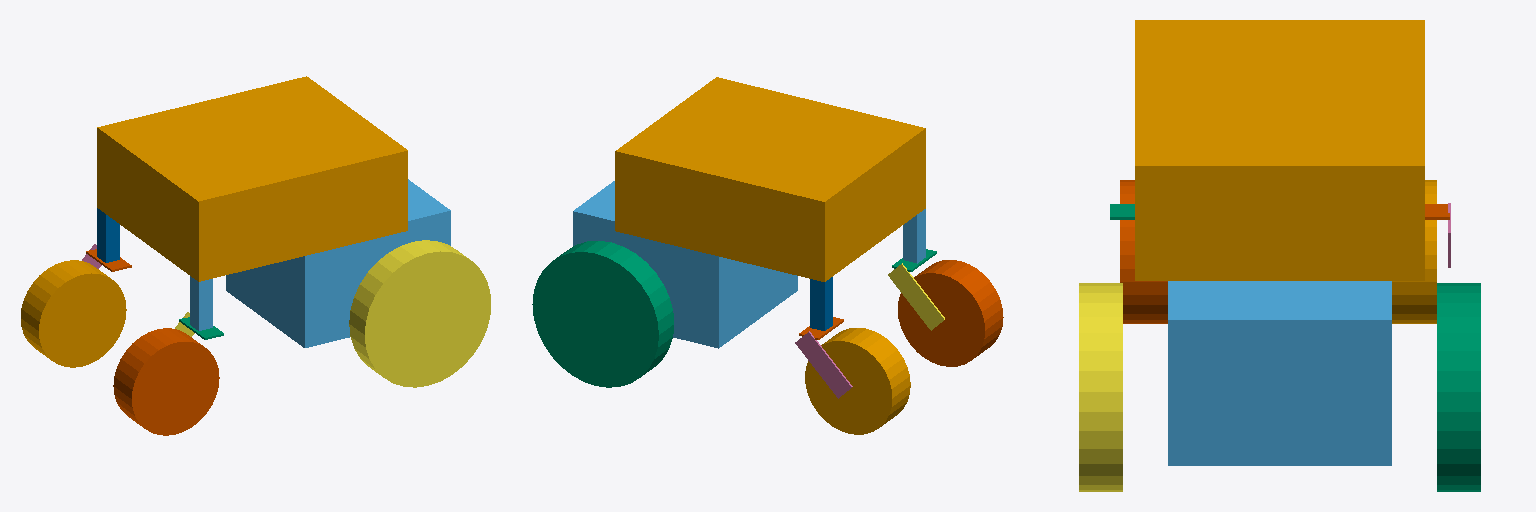
URDF robot description (mobot):
<?xml version="1.0" encoding="utf-8"?>
<!-- =================================================================================== -->
<!-- |    This document was autogenerated by xacro from mobot.xacro                    | -->
<!-- |    EDITING THIS FILE BY HAND IS NOT RECOMMENDED                                 | -->
<!-- =================================================================================== -->
<robot name="mobot" xmlns:xacros="http://www.ros.org/wiki/xacro">
  <!-- clearance from bottom of the box to ground -->
  <inertial>
    <mass value="1"/>
    <inertia ixx="0.01" ixy="0.0" ixz="0.0" iyy="0.01" iyz="0.0" izz="0.01"/>
  </inertial>
  <link name="base_link">
    <visual>
      <geometry>
        <box size="0.5461 0.4572 0.2"/>
      </geometry>
      <origin rpy="0 0 0" xyz="-0.27305 0 0.45"/>
    </visual>
    <collision>
      <geometry>
        <box size="0.5461 0.4572 0.2"/>
      </geometry>
      <origin rpy="0 0 0" xyz="-0.27305 0 0.45"/>
    </collision>
    <inertial>
      <!-- assign almost all mass to the main body box; m=100kg; treat I as approx m*r^2 -->
      <mass value="100"/>
      <inertia ixx="10" ixy="0" ixz="0" iyy="10" iyz="0" izz="10"/>
    </inertial>
  </link>
  <link name="batterybox">
    <visual>
      <geometry>
        <box size="0.381 0.3556 0.254"/>
      </geometry>
      <origin rpy="0 0 0" xyz="0 0 0"/>
    </visual>
    <collision>
      <geometry>
        <box size="0.381 0.3556 0.254"/>
      </geometry>
      <origin rpy="0 0 0" xyz="0 0 0"/>
    </collision>
  </link>
  <joint name="batterytobase" type="fixed">
    <parent link="base_link"/>
    <child link="batterybox"/>
    <origin rpy="0 0 0" xyz="-0.05 0 0.22"/>
  </joint>
  <link name="left_wheel">
    <visual>
      <geometry>
        <cylinder length="0.06985" radius="0.1651"/>
      </geometry>
    </visual>
    <collision>
      <geometry>
        <cylinder length="0.06985" radius="0.1651"/>
      </geometry>
    </collision>
    <inertial>
      <!-- assign inertial properties to drive wheels -->
      <mass value="1"/>
      <inertia ixx="0.1" ixy="0" ixz="0" iyy="0.1" iyz="0" izz="0.1"/>
    </inertial>
  </link>
  <joint name="left_wheel_joint" type="continuous">
    <axis xyz="0 0 1"/>
    <parent link="base_link"/>
    <child link="left_wheel"/>
    <origin rpy="0 1.57079632679 1.57079632679" xyz="0 0.282575 0.1651"/>
    <limit effort="100" velocity="15"/>
    <joint_properties damping="0.0" friction="0.0"/>
  </joint>
  <link name="right_wheel">
    <visual>
      <geometry>
        <cylinder length="0.06985" radius="0.1651"/>
      </geometry>
    </visual>
    <collision>
      <geometry>
        <cylinder length="0.06985" radius="0.1651"/>
      </geometry>
    </collision>
    <inertial>
      <!-- assign inertial properties to drive wheels -->
      <mass value="1"/>
      <inertia ixx="0.1" ixy="0" ixz="0" iyy="0.1" iyz="0" izz="0.1"/>
    </inertial>
  </link>
  <joint name="right_wheel_joint" type="continuous">
    <axis xyz="0 0 1"/>
    <parent link="base_link"/>
    <child link="right_wheel"/>
    <origin rpy="0 1.57079632679 1.57079632679" xyz="0 -0.282575 0.1651"/>
    <limit effort="100" velocity="15"/>
    <joint_properties damping="0.0" friction="0.0"/>
  </joint>
  <link name="castdrop_left">
    <visual>
      <geometry>
        <box size="0.0381 0.0381 0.125"/>
      </geometry>
      <origin rpy="0 0 0" xyz="0 0 0"/>
    </visual>
    <collision>
      <geometry>
        <box size="0.0381 0.0381 0.125"/>
      </geometry>
      <origin rpy="0 0 0" xyz="0 0 0"/>
    </collision>
    <inertial>
      <mass value="0.2"/>
      <inertia ixx="0.01" ixy="0.0" ixz="0.0" iyy="0.01" iyz="0.0" izz="0.01"/>
    </inertial>
  </link>
  <joint name="cast2base_left" type="fixed">
    <parent link="base_link"/>
    <child link="castdrop_left"/>
    <origin xyz="-0.52705 0.20955 0.2875"/>
  </joint>
  <link name="brackettop_left">
    <visual>
      <geometry>
        <box size="0.1175 0.0508 0.005"/>
      </geometry>
      <origin rpy="0 0 0" xyz="0 0 0"/>
    </visual>
    <collision>
      <geometry>
        <box size="0.1175 0.0508 0.005"/>
      </geometry>
      <origin rpy="0 0 0" xyz="0 0 0"/>
    </collision>
    <inertial>
      <mass value="0.2"/>
      <inertia ixx="0.01" ixy="0.0" ixz="0.0" iyy="0.01" iyz="0.0" izz="0.01"/>
    </inertial>
  </link>
  <joint name="cast2bracket_left" type="continuous">
    <axis xyz="0 0 1"/>
    <parent link="castdrop_left"/>
    <child link="brackettop_left"/>
    <origin rpy="0 0 1.57079632679" xyz="0 0 -0.0625"/>
    <joint_properties damping="0.0" friction="0.0"/>
  </joint>
  <link name="bracketside1_left">
    <visual>
      <geometry>
        <box size="0.0508 0.16 0.005"/>
      </geometry>
      <origin rpy="1.57079632679 -0.7854 1.57079632679" xyz="0 0 0"/>
    </visual>
    <collision>
      <geometry>
        <box size="0.0508 0.16 0.005"/>
      </geometry>
      <origin rpy="1.57079632679 -0.7854 1.57079632679" xyz="0 0 0"/>
    </collision>
    <inertial>
      <mass value="0.2"/>
      <inertia ixx="0.01" ixy="0.0" ixz="0.0" iyy="0.01" iyz="0.0" izz="0.01"/>
    </inertial>
  </link>
  <joint name="bracket2top1_left" type="fixed">
    <parent link="brackettop_left"/>
    <child link="bracketside1_left"/>
    <origin rpy="0 0 0" xyz="0.05875 0.04 -0.06"/>
    <joint_properties damping="0.0" friction="0.0"/>
  </joint>
  <link name="bracketside2_left">
    <visual>
      <geometry>
        <box size="0.0508 0.16 0.005"/>
      </geometry>
      <origin rpy="1.57079632679 -0.7854 1.57079632679" xyz="0 0 0"/>
    </visual>
    <collision>
      <geometry>
        <box size="0.0508 0.16 0.005"/>
      </geometry>
      <origin rpy="1.57079632679 -0.7854 1.57079632679" xyz="0 0 0"/>
    </collision>
    <inertial>
      <mass value="0.2"/>
      <inertia ixx="0.01" ixy="0.0" ixz="0.0" iyy="0.01" iyz="0.0" izz="0.01"/>
    </inertial>
  </link>
  <joint name="bracket2top2_left" type="fixed">
    <parent link="brackettop_left"/>
    <child link="bracketside2_left"/>
    <origin rpy="0 0 0" xyz="0.05875 0.04 -0.06"/>
    <joint_properties damping="0.0" friction="0.0"/>
  </joint>
  <link name="left_casterwheel">
    <visual>
      <geometry>
        <cylinder length="0.0826" radius="0.1143"/>
      </geometry>
    </visual>
    <collision>
      <geometry>
        <cylinder length="0.0826" radius="0.1143"/>
      </geometry>
    </collision>
    <inertial>
      <mass value="0.5"/>
      <inertia ixx="0.01" ixy="0.0" ixz="0.0" iyy="0.01" iyz="0.0" izz="0.01"/>
    </inertial>
  </link>
  <joint name="left_caster_joint" type="continuous">
    <axis xyz="0 0 1"/>
    <parent link="bracketside1_left"/>
    <child link="left_casterwheel"/>
    <origin rpy="0 1.57079632679 0" xyz="-0.0613 0.053 -0.053"/>
    <limit effort="100" velocity="15"/>
    <joint_properties damping="0.0" friction="0.0"/>
  </joint>
  <link name="castdrop_right">
    <visual>
      <geometry>
        <box size="0.0381 0.0381 0.125"/>
      </geometry>
      <origin rpy="0 0 0" xyz="0 0 0"/>
    </visual>
    <collision>
      <geometry>
        <box size="0.0381 0.0381 0.125"/>
      </geometry>
      <origin rpy="0 0 0" xyz="0 0 0"/>
    </collision>
    <inertial>
      <mass value="0.2"/>
      <inertia ixx="0.01" ixy="0.0" ixz="0.0" iyy="0.01" iyz="0.0" izz="0.01"/>
    </inertial>
  </link>
  <joint name="cast2base_right" type="fixed">
    <parent link="base_link"/>
    <child link="castdrop_right"/>
    <origin xyz="-0.52705 -0.20955 0.2875"/>
  </joint>
  <link name="brackettop_right">
    <visual>
      <geometry>
        <box size="0.1175 0.0508 0.005"/>
      </geometry>
      <origin rpy="0 0 0" xyz="0 0 0"/>
    </visual>
    <collision>
      <geometry>
        <box size="0.1175 0.0508 0.005"/>
      </geometry>
      <origin rpy="0 0 0" xyz="0 0 0"/>
    </collision>
    <inertial>
      <mass value="0.2"/>
      <inertia ixx="0.01" ixy="0.0" ixz="0.0" iyy="0.01" iyz="0.0" izz="0.01"/>
    </inertial>
  </link>
  <joint name="cast2bracket_right" type="continuous">
    <axis xyz="0 0 1"/>
    <parent link="castdrop_right"/>
    <child link="brackettop_right"/>
    <origin rpy="0 0 1.57079632679" xyz="0 0 -0.0625"/>
    <joint_properties damping="0.0" friction="0.0"/>
  </joint>
  <link name="bracketside1_right">
    <visual>
      <geometry>
        <box size="0.0508 0.16 0.005"/>
      </geometry>
      <origin rpy="1.57079632679 -0.7854 1.57079632679" xyz="0 0 0"/>
    </visual>
    <collision>
      <geometry>
        <box size="0.0508 0.16 0.005"/>
      </geometry>
      <origin rpy="1.57079632679 -0.7854 1.57079632679" xyz="0 0 0"/>
    </collision>
    <inertial>
      <mass value="0.2"/>
      <inertia ixx="0.01" ixy="0.0" ixz="0.0" iyy="0.01" iyz="0.0" izz="0.01"/>
    </inertial>
  </link>
  <joint name="bracket2top1_right" type="fixed">
    <parent link="brackettop_right"/>
    <child link="bracketside1_right"/>
    <origin rpy="0 0 0" xyz="0.05875 0.04 -0.06"/>
    <joint_properties damping="0.0" friction="0.0"/>
  </joint>
  <link name="bracketside2_right">
    <visual>
      <geometry>
        <box size="0.0508 0.16 0.005"/>
      </geometry>
      <origin rpy="1.57079632679 -0.7854 1.57079632679" xyz="0 0 0"/>
    </visual>
    <collision>
      <geometry>
        <box size="0.0508 0.16 0.005"/>
      </geometry>
      <origin rpy="1.57079632679 -0.7854 1.57079632679" xyz="0 0 0"/>
    </collision>
    <inertial>
      <mass value="0.2"/>
      <inertia ixx="0.01" ixy="0.0" ixz="0.0" iyy="0.01" iyz="0.0" izz="0.01"/>
    </inertial>
  </link>
  <joint name="bracket2top2_right" type="fixed">
    <parent link="brackettop_right"/>
    <child link="bracketside2_right"/>
    <origin rpy="0 0 0" xyz="0.05875 0.04 -0.06"/>
    <joint_properties damping="0.0" friction="0.0"/>
  </joint>
  <link name="right_casterwheel">
    <visual>
      <geometry>
        <cylinder length="0.0826" radius="0.1143"/>
      </geometry>
    </visual>
    <collision>
      <geometry>
        <cylinder length="0.0826" radius="0.1143"/>
      </geometry>
    </collision>
    <inertial>
      <mass value="0.5"/>
      <inertia ixx="0.01" ixy="0.0" ixz="0.0" iyy="0.01" iyz="0.0" izz="0.01"/>
    </inertial>
  </link>
  <joint name="right_caster_joint" type="continuous">
    <axis xyz="0 0 1"/>
    <parent link="bracketside1_right"/>
    <child link="right_casterwheel"/>
    <origin rpy="0 1.57079632679 0" xyz="-0.0613 0.053 -0.053"/>
    <limit effort="100" velocity="15"/>
    <joint_properties damping="0.0" friction="0.0"/>
  </joint>
  <gazebo>
    <plugin filename="libgazebo_ros_diff_drive.so" name="differential_drive_controller">
      <alwaysOn>true</alwaysOn>
      <updateRate>100</updateRate>
      <leftJoint>right_wheel_joint</leftJoint>
      <rightJoint>left_wheel_joint</rightJoint>
      <wheelSeparation>0.56515</wheelSeparation>
      <wheelDiameter>0.3302</wheelDiameter>
      <torque>200</torque>
      <commandTopic>cmd_vel</commandTopic>
      <odometryTopic>odom</odometryTopic>
      <odometryFrame>odom</odometryFrame>
      <robotBaseFrame>base_link</robotBaseFrame>
      <publishWheelTF>true</publishWheelTF>
      <publishWheelJointState>true</publishWheelJointState>
    </plugin>
  </gazebo>
</robot>

--- Render facts (derived) ---
Views: 3 orthographic renders of the robot side by side, from view 1: azimuth 30°, elevation 25°; view 2: azimuth 150°, elevation 25°; view 3: azimuth 270°, elevation 25°.
Model mobot with 14 links and 13 joints (6 continuous, 7 fixed), rooted at base_link, posed every joint at zero.
Visible links, largest first — view 1: base_link, right_wheel, batterybox, right_casterwheel, left_casterwheel, castdrop_right, castdrop_left; view 2: base_link, left_wheel, batterybox, left_casterwheel, right_casterwheel, bracketside1_right, bracketside1_left, castdrop_left, castdrop_right; view 3: base_link, batterybox, left_wheel, right_wheel, right_casterwheel, left_casterwheel.
Link boxes in pixels (<box>): base_link: <box>97,76,407,281</box>; right_wheel: <box>349,240,490,387</box>; batterybox: <box>226,179,450,347</box>; right_casterwheel: <box>113,328,219,435</box>; left_casterwheel: <box>21,260,126,367</box>; castdrop_right: <box>190,276,212,330</box>; castdrop_left: <box>97,208,119,262</box>; base_link: <box>615,77,925,281</box>; left_wheel: <box>532,241,673,387</box>; batterybox: <box>573,181,797,348</box>; left_casterwheel: <box>805,328,910,434</box>; right_casterwheel: <box>898,260,1003,366</box>; bracketside1_right: <box>888,263,944,330</box>; bracketside1_left: <box>795,331,852,398</box>; castdrop_left: <box>810,277,832,330</box>; castdrop_right: <box>903,209,925,263</box>; base_link: <box>1135,20,1424,280</box>; batterybox: <box>1168,281,1391,465</box>; left_wheel: <box>1437,283,1480,491</box>; right_wheel: <box>1079,283,1122,491</box>; right_casterwheel: <box>1120,180,1167,323</box>; left_casterwheel: <box>1392,180,1436,323</box>.
Size in the robot's own frame: 0.8995 by 0.635 by 0.5523 metres.
Geometry: primitives only (box / cylinder / sphere), no mesh files.